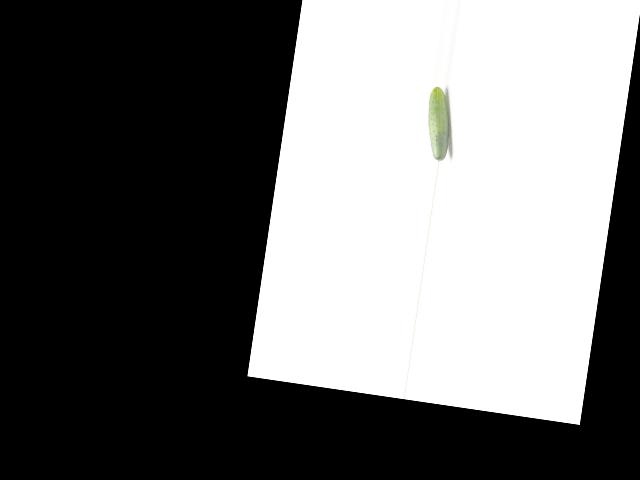cucumber: (420, 86, 456, 163)
